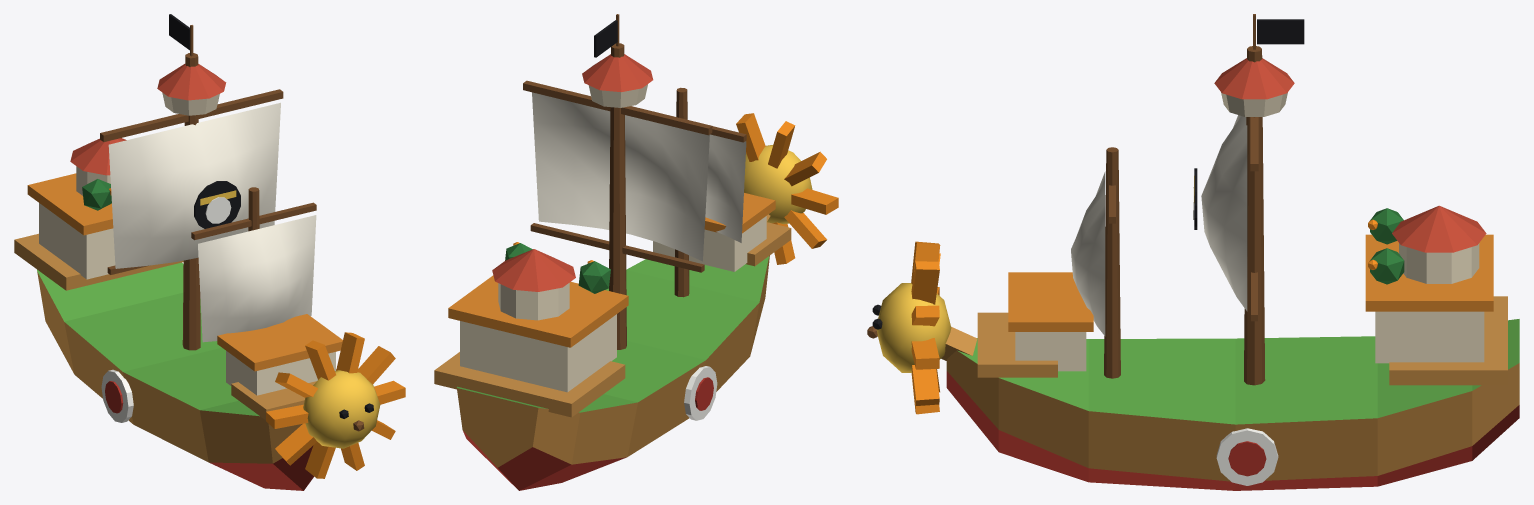
File: thousand-sunny.glb
3 views of the same model, side by side, from view 1: azimuth 30°, elevation 25°; view 2: azimuth 150°, elevation 25°; view 3: azimuth 270°, elevation 25° (orthographic). The views are drawn at different scales.
Parts seen in each view (by area): view 1: ThousandSunny; view 2: ThousandSunny; view 3: ThousandSunny.
Boxes of the visible parts, x1=… form: ThousandSunny: x1=14, y1=14, x2=405, y2=490; ThousandSunny: x1=434, y1=14, x2=838, y2=490; ThousandSunny: x1=867, y1=14, x2=1519, y2=490.
Bounding box in the file's own units: 1 × 2.22 × 2.76.
